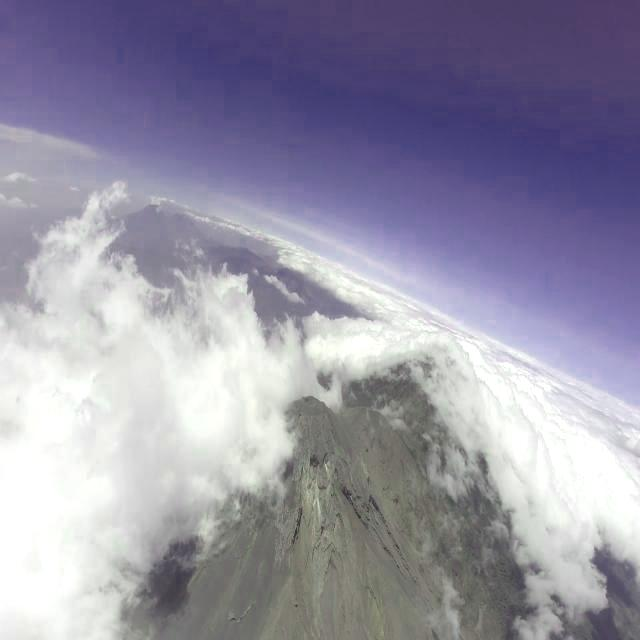Summit: (276, 390, 372, 523)
